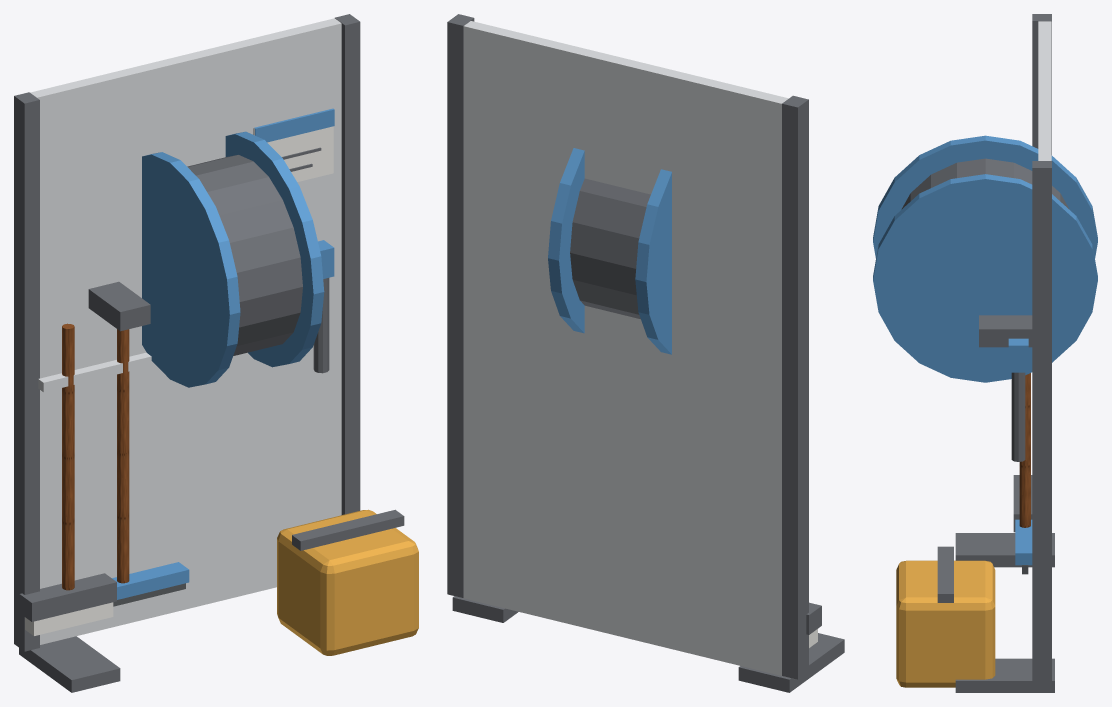
Rendered from boarding-kennels-and-cattery-boarding-kennels-and-catt-456a6027__35562.glb.
3 views of the same model, side by side, from view 1: azimuth 30°, elevation 25°; view 2: azimuth 150°, elevation 25°; view 3: azimuth 270°, elevation 25° (orthographic). The views are drawn at different scales.
Visible parts, largest first — view 1: boarding-kennels-and-cattery-cleaning-station, reel-spin/blue, reel-spin/charcoal; view 2: boarding-kennels-and-cattery-cleaning-station, reel-spin/blue, reel-spin/charcoal; view 3: reel-spin/blue, boarding-kennels-and-cattery-cleaning-station, reel-spin/charcoal.
Part boxes in pixels (x1,y1,x2,y2): boarding-kennels-and-cattery-cleaning-station: (14, 14, 418, 692); reel-spin/blue: (142, 131, 324, 387); reel-spin/charcoal: (187, 155, 302, 355); boarding-kennels-and-cattery-cleaning-station: (447, 14, 844, 692); reel-spin/blue: (548, 148, 671, 354); reel-spin/charcoal: (570, 178, 650, 319); reel-spin/blue: (873, 135, 1097, 382); boarding-kennels-and-cattery-cleaning-station: (896, 14, 1054, 692); reel-spin/charcoal: (901, 158, 1069, 209).
Bounding box in the file's own units: 1.11 × 1.76 × 0.68.
Materials: 7 (1 with a texture image).
